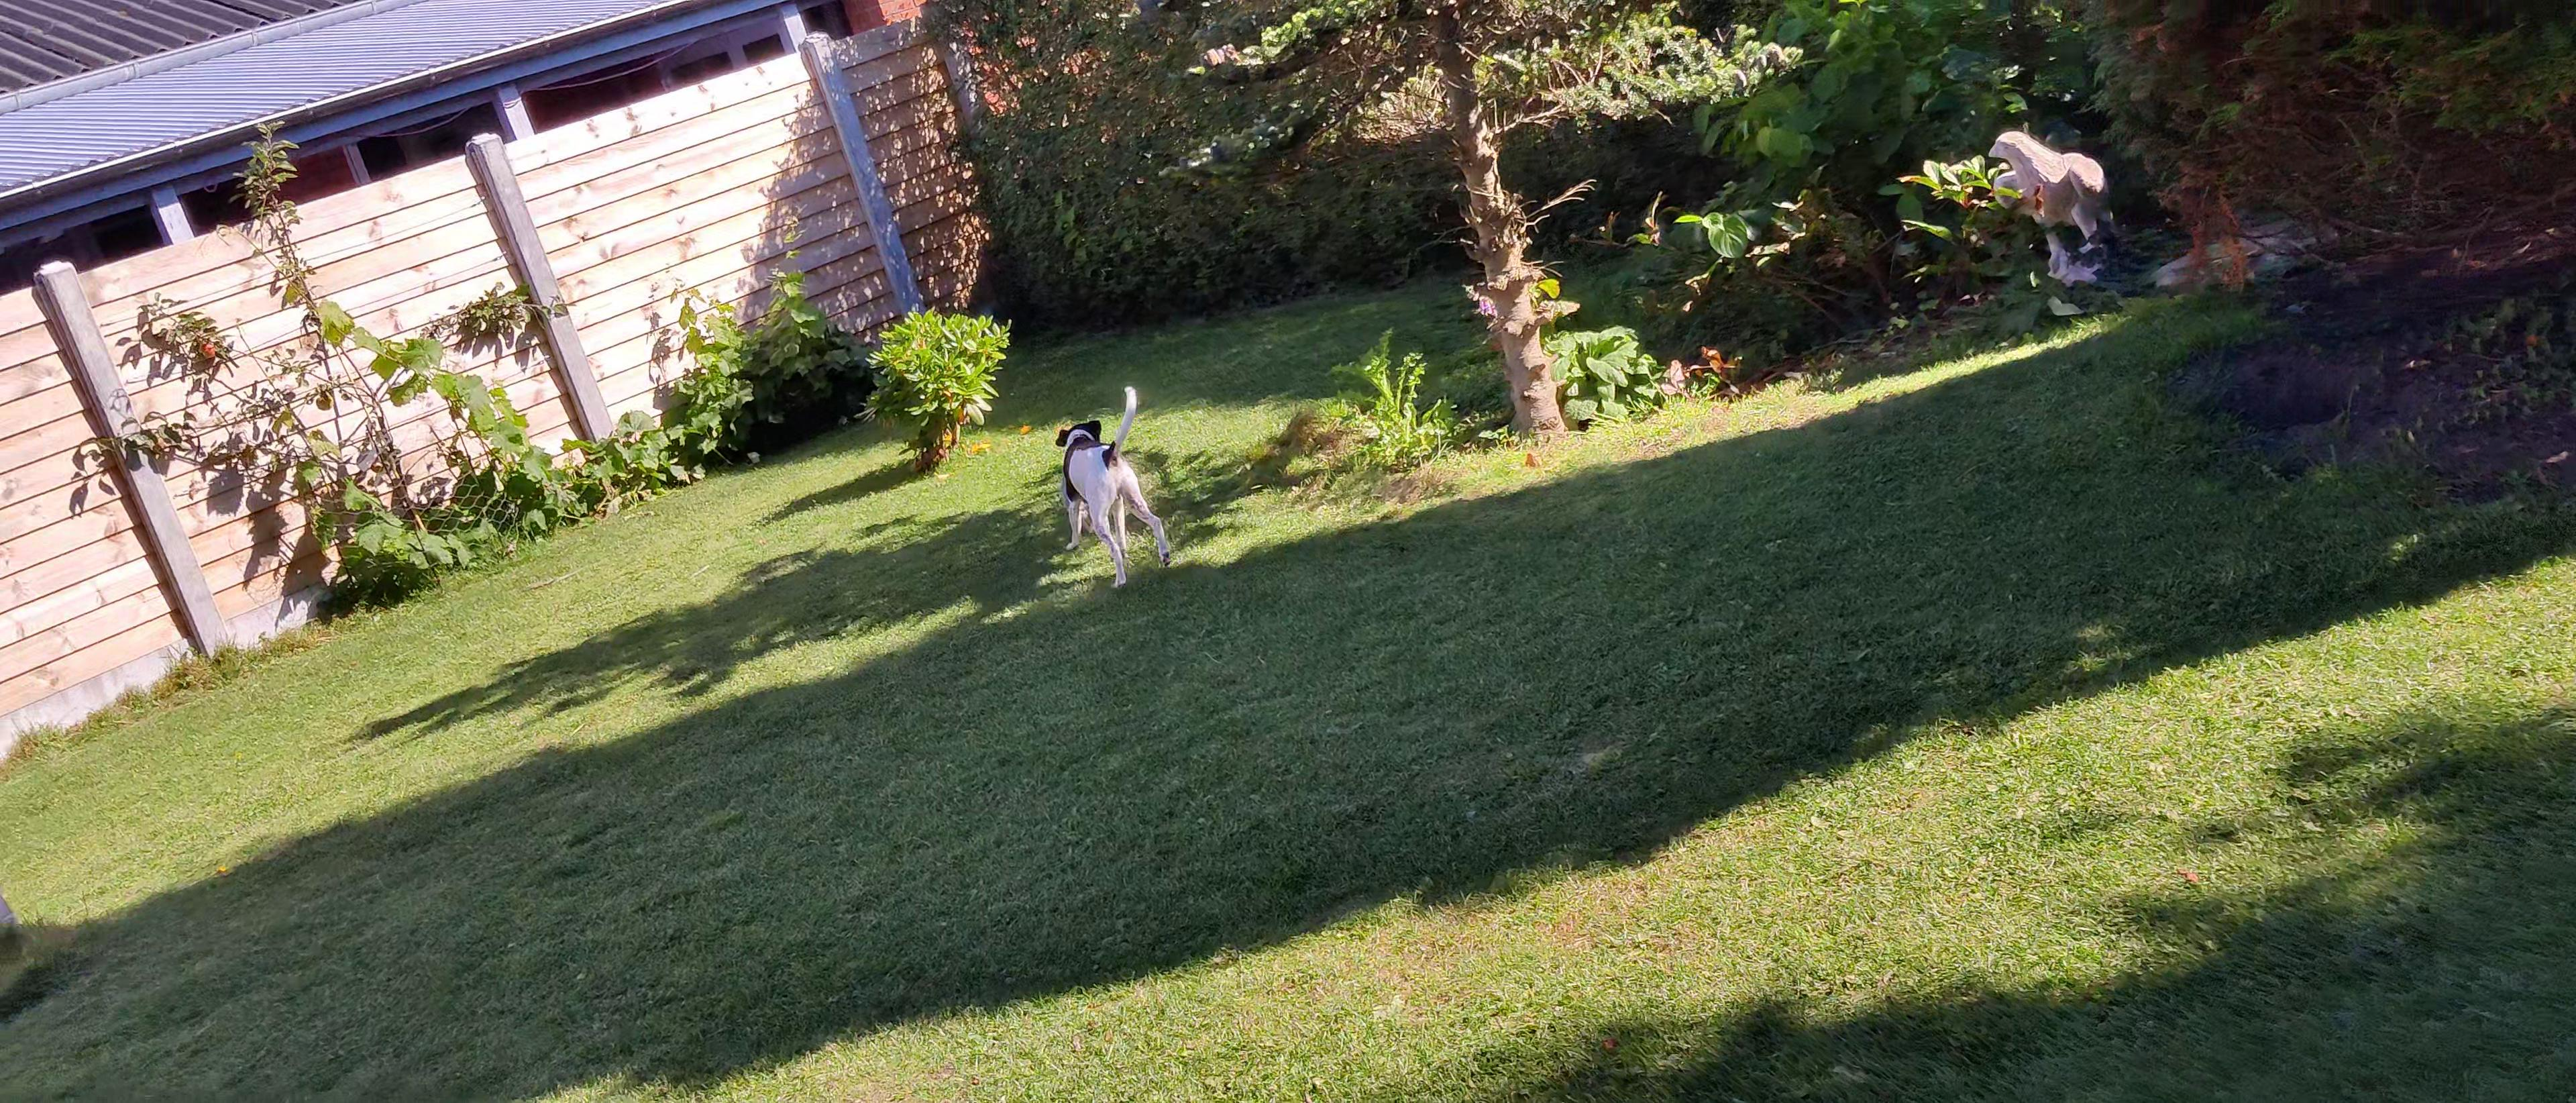Dog: (1051, 381, 1176, 597)
